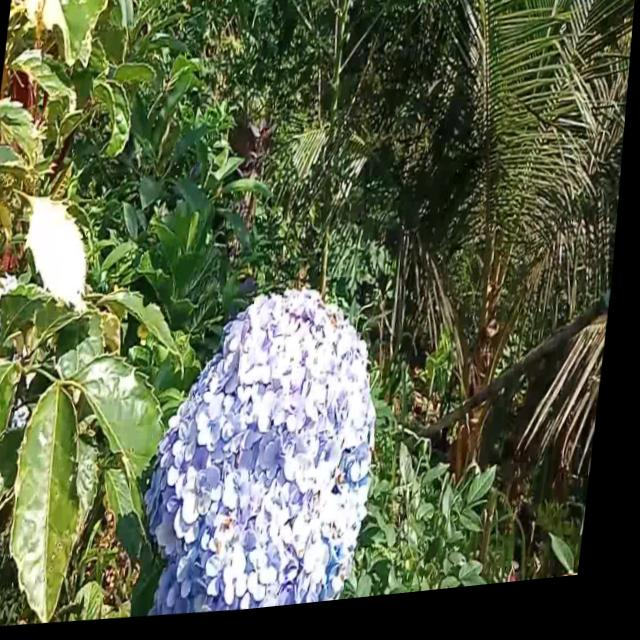Flower: (140, 283, 401, 625)
